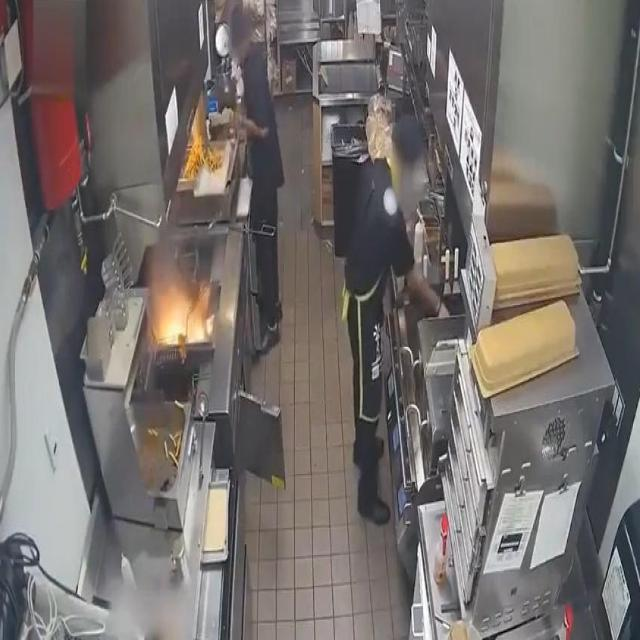smoke: (159, 304, 206, 346)
